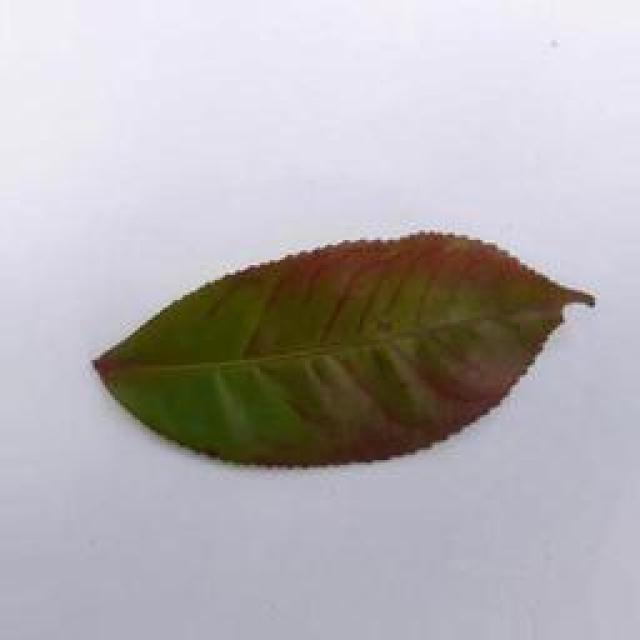Red Leaf Spot: (68, 208, 600, 486)
